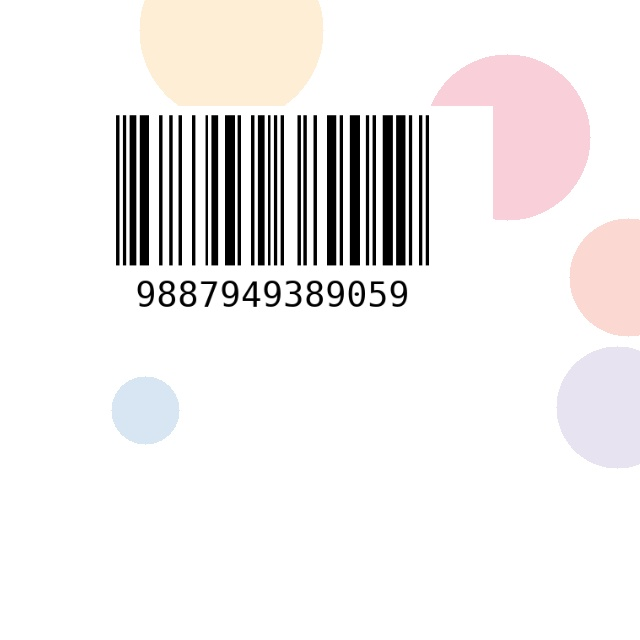barcode: (52, 106, 493, 342)
